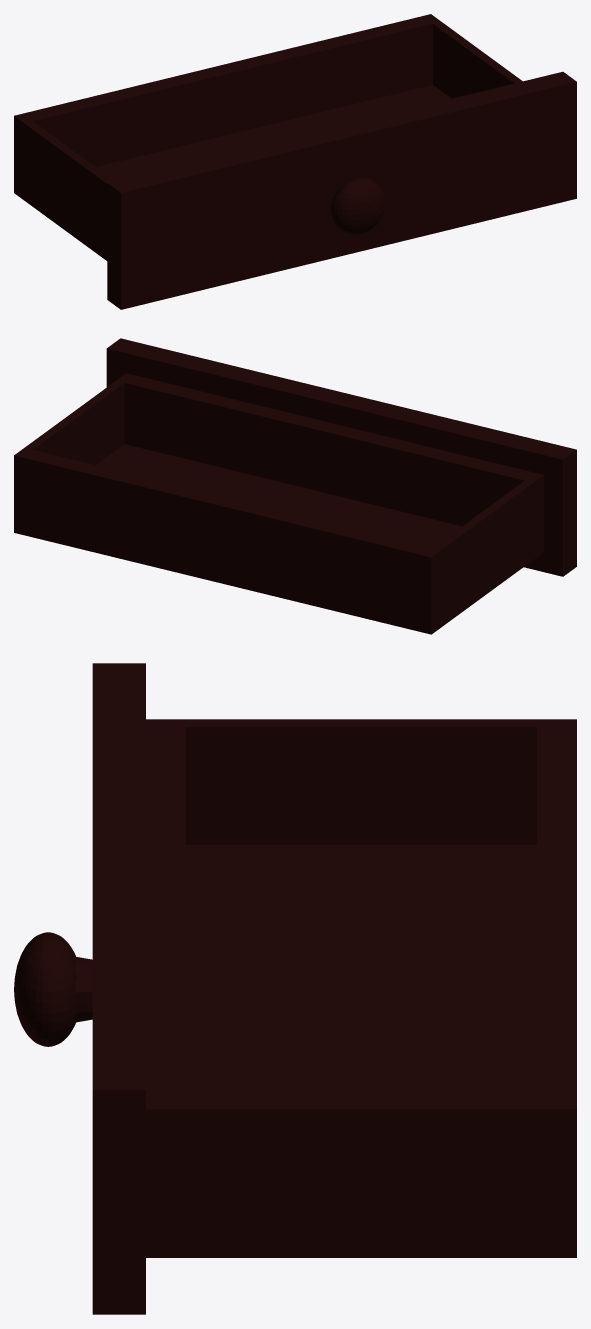
File: SmallDrawer.fbx
3 renders of one model, top to bottom at view 1: azimuth 30°, elevation 25°; view 2: azimuth 150°, elevation 25°; view 3: azimuth 270°, elevation 25°, orthographic. The views are drawn at different scales.
Visible parts, largest first — view 1: SmallDrawer; view 2: SmallDrawer; view 3: SmallDrawer.
Boxes of the visible parts, box(x1,y1,x2,y2) form: SmallDrawer: box(14, 14, 576, 309); SmallDrawer: box(14, 338, 576, 634); SmallDrawer: box(14, 663, 576, 1314).
Size of the model in its own units: 80.17 by 19.65 by 44.69.
